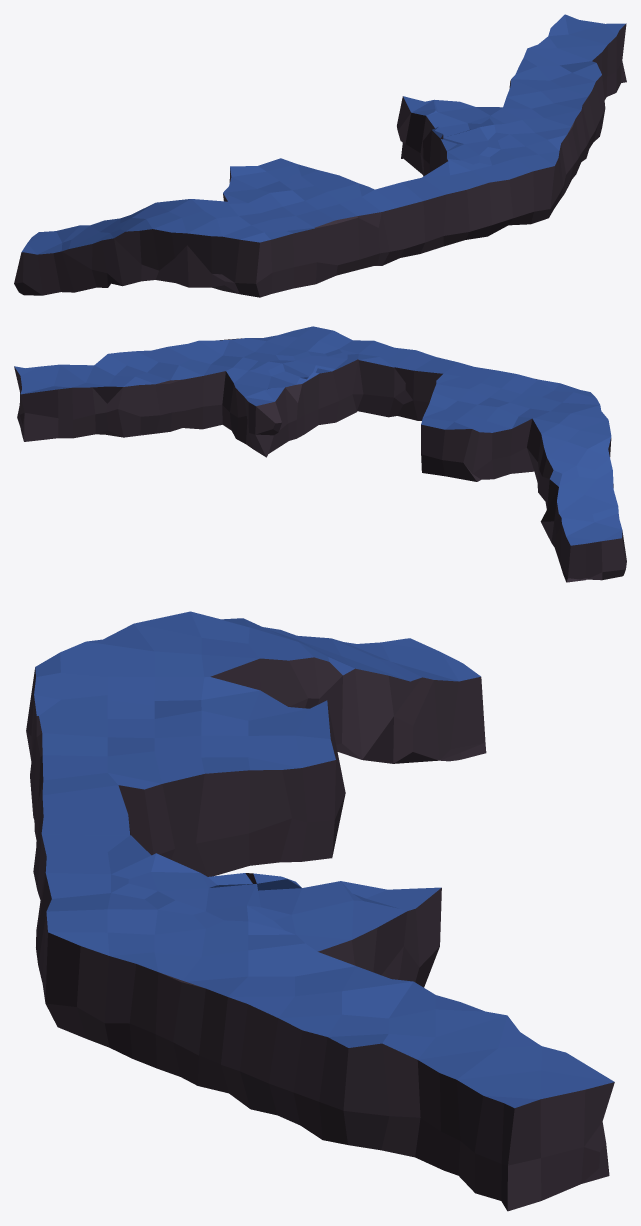
Rendered from highground 2.fbx.
3 views of the same model, one above another, from view 1: azimuth 30°, elevation 25°; view 2: azimuth 150°, elevation 25°; view 3: azimuth 270°, elevation 25° (orthographic). The views are drawn at different scales.
Visible parts, largest first — view 1: Plane.002; view 2: Plane.002; view 3: Plane.002.
Boxes of the visible parts, x1,y1,x2,y2 form: Plane.002: (14,14,626,297); Plane.002: (14,326,626,582); Plane.002: (26,611,614,1211).
Bounding box in the file's own units: 27002 × 4039 × 11720.
